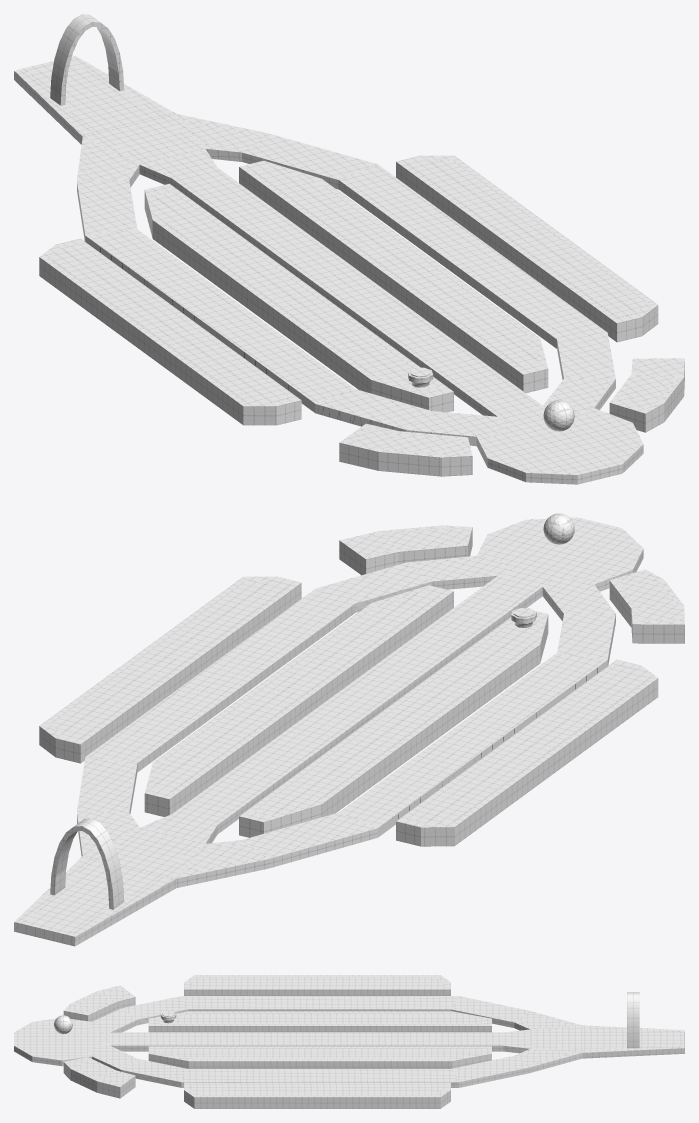
3 views of the same model, one above another, from view 1: azimuth 30°, elevation 25°; view 2: azimuth 150°, elevation 25°; view 3: azimuth 270°, elevation 25° (orthographic). The views are drawn at different scales.
Visible parts, largest first — view 1: GroundBase, Surface_MidLeft, Surface_MidRight, Surface_FarRight, Surface_FarLeft, Surface_UpRight, Surface_UpLeft, EnemySpawn, PlayerHeart; view 2: GroundBase, Surface_MidLeft, Surface_MidRight, Surface_FarRight, Surface_FarLeft, Surface_UpLeft, Surface_UpRight, EnemySpawn, PlayerHeart; view 3: GroundBase, Surface_MidLeft, Surface_MidRight, Surface_FarLeft, Surface_FarRight, Surface_UpLeft, Surface_UpRight, EnemySpawn, PlayerHeart.
Boxes of the visible parts, <box> form: GroundBase: <box>14,55,643,484</box>; Surface_MidLeft: <box>239,160,548,392</box>; Surface_MidRight: <box>144,183,453,412</box>; Surface_FarRight: <box>39,238,301,425</box>; Surface_FarLeft: <box>396,155,658,342</box>; Surface_UpRight: <box>339,423,472,476</box>; Surface_UpLeft: <box>609,358,684,432</box>; EnemySpawn: <box>50,14,124,105</box>; PlayerHeart: <box>543,400,574,431</box>; GroundBase: <box>14,517,643,946</box>; Surface_MidLeft: <box>144,585,453,816</box>; Surface_MidRight: <box>239,611,548,837</box>; Surface_FarRight: <box>396,659,658,846</box>; Surface_FarLeft: <box>39,576,301,763</box>; Surface_UpLeft: <box>339,525,472,575</box>; Surface_UpRight: <box>609,569,684,643</box>; EnemySpawn: <box>50,818,124,909</box>; PlayerHeart: <box>543,513,574,544</box>; GroundBase: <box>14,996,684,1087</box>; Surface_MidLeft: <box>148,1046,491,1068</box>; Surface_MidRight: <box>148,1011,491,1032</box>; Surface_FarLeft: <box>184,1082,450,1108</box>; Surface_FarRight: <box>184,975,450,995</box>; Surface_UpLeft: <box>63,1057,135,1098</box>; Surface_UpRight: <box>63,985,135,1021</box>; EnemySpawn: <box>627,992,639,1048</box>; PlayerHeart: <box>54,1015,72,1034</box>.
Bounding box in the file's own units: 4570 × 950 × 10594.
Materials: 1 (1 with a texture image).
